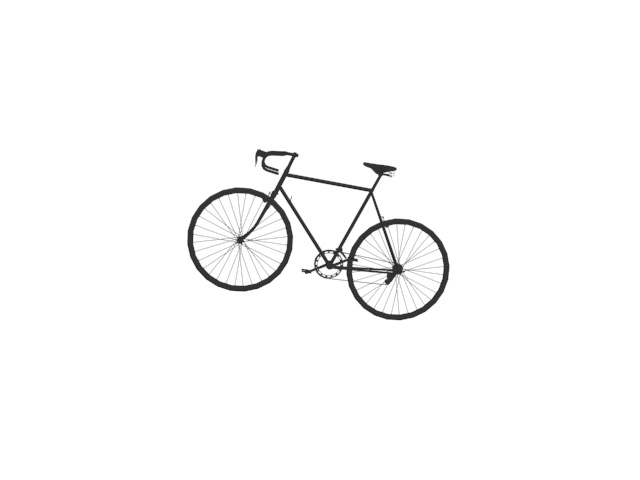bike: (185, 145, 456, 328)
